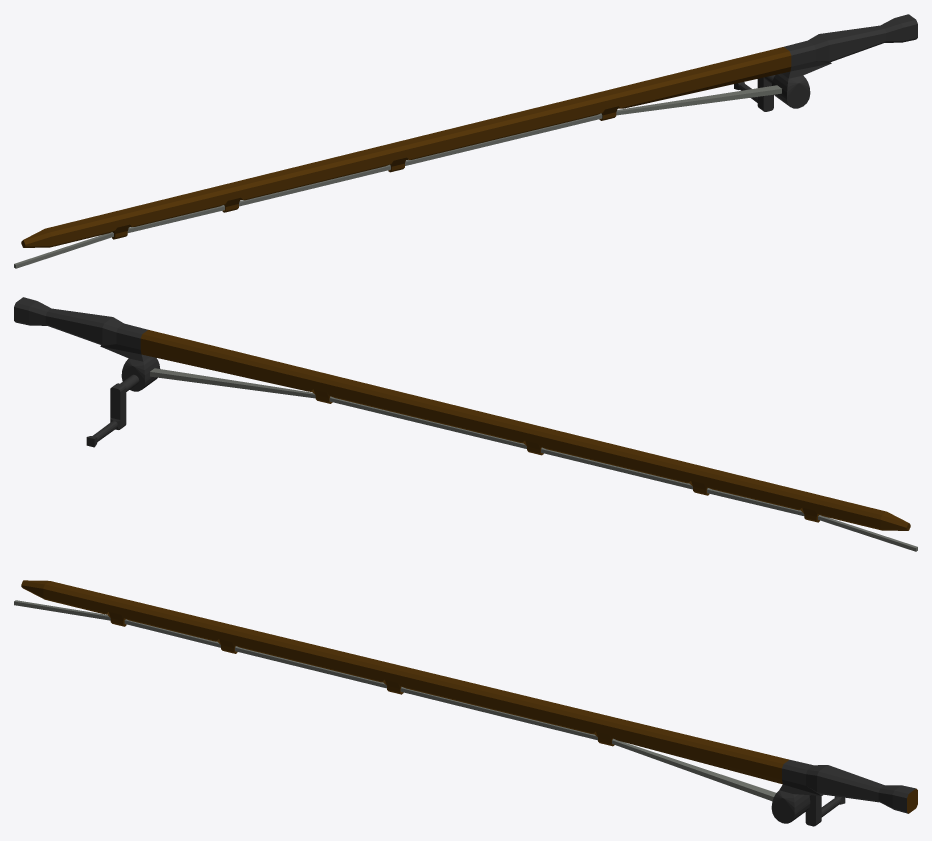
The model's file is fishingrod.fbx.
3 renders of one model, top to bottom at view 1: azimuth 30°, elevation 25°; view 2: azimuth 150°, elevation 25°; view 3: azimuth 330°, elevation 25°, orthographic.
Visible parts, largest first — view 1: FishingRod; view 2: FishingRod; view 3: FishingRod.
Part boxes in pixels (bbox=[...]): FishingRod: bbox=[14, 14, 917, 268]; FishingRod: bbox=[14, 297, 917, 551]; FishingRod: bbox=[14, 580, 917, 826].
Size of the model in its own units: 9.24 by 1.06 by 0.7994.
